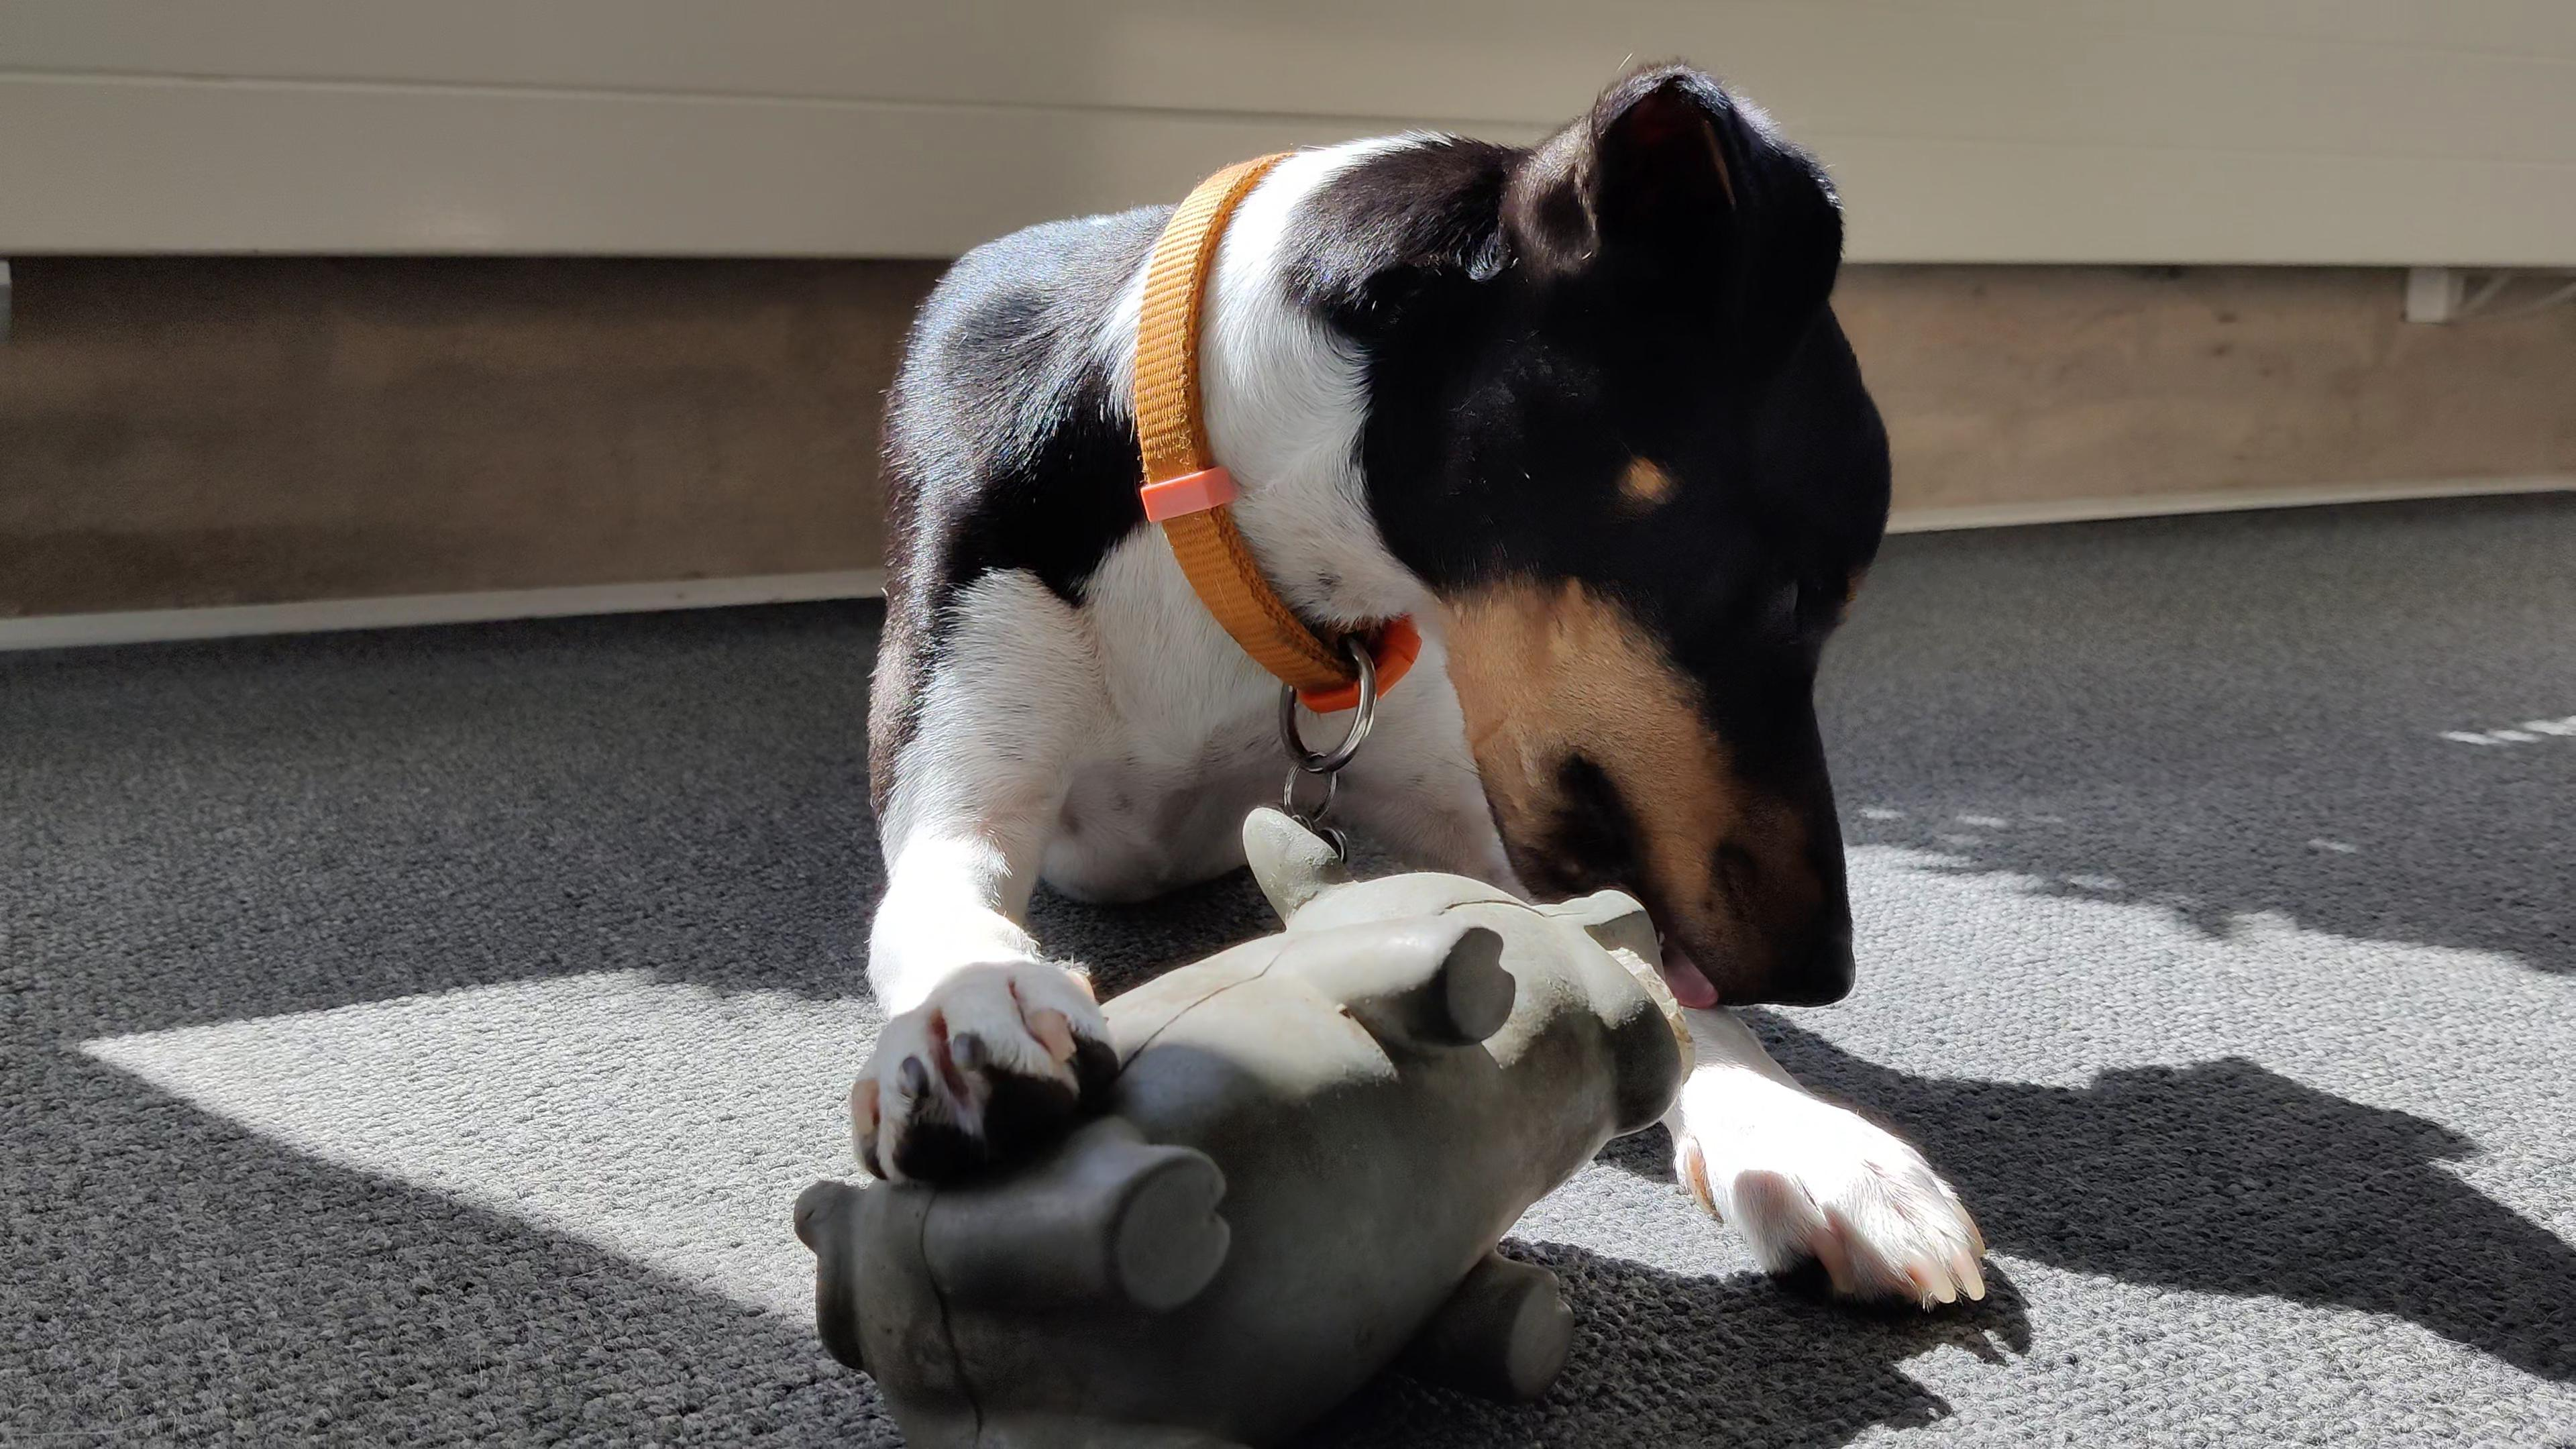Dog: (830, 48, 2074, 1353)
